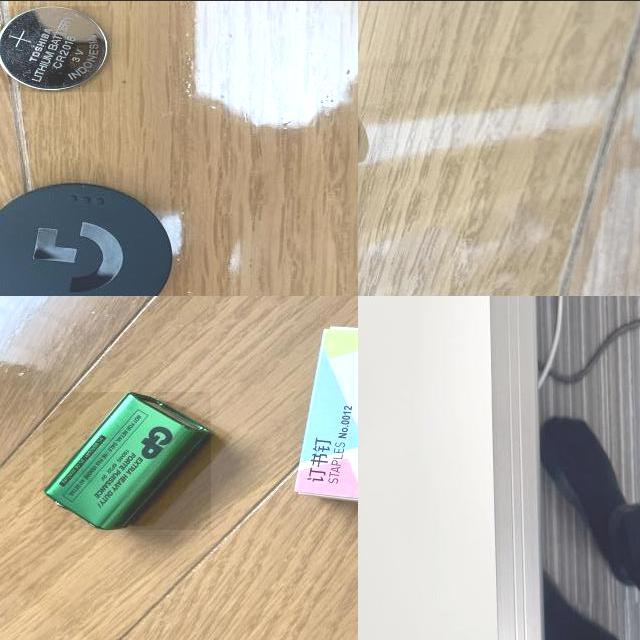9V: (43, 390, 211, 529)
